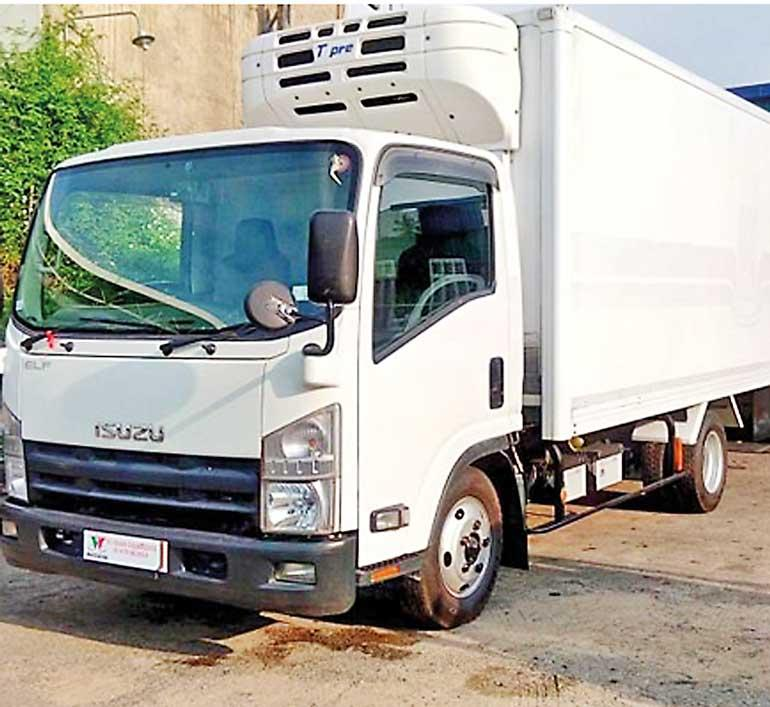truck: (2, 5, 770, 631)
